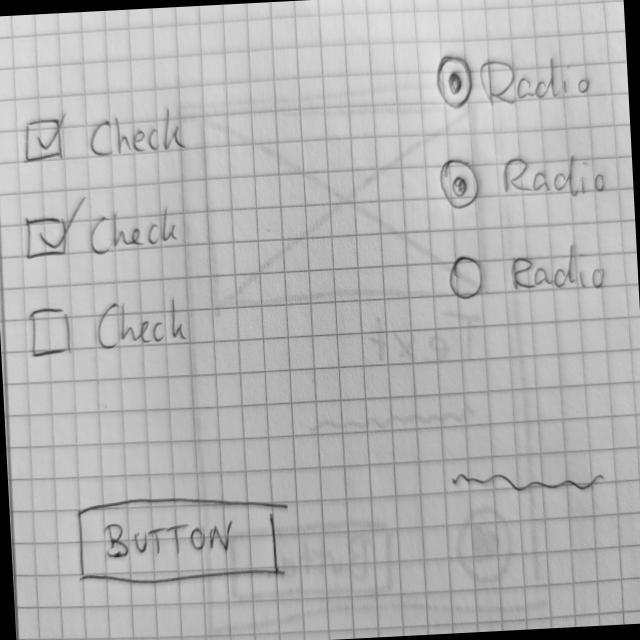button: (75, 489, 286, 592)
checkbox: (23, 189, 185, 263), (21, 101, 196, 168), (26, 298, 191, 362)
radio: (438, 147, 611, 213), (435, 45, 598, 113), (445, 239, 610, 303)
text: (449, 459, 608, 503)
